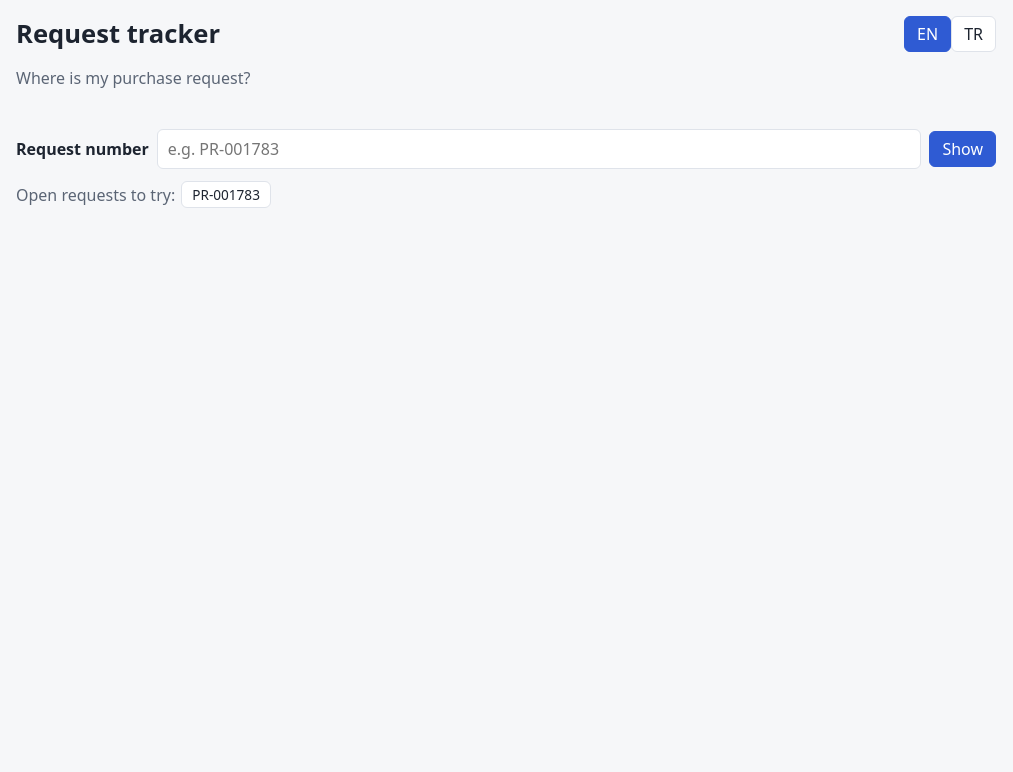
Test: RequestTracker › accepts a bare number
In the field labelled "Request number": (539, 149) [157,129,921,169], type "1783"
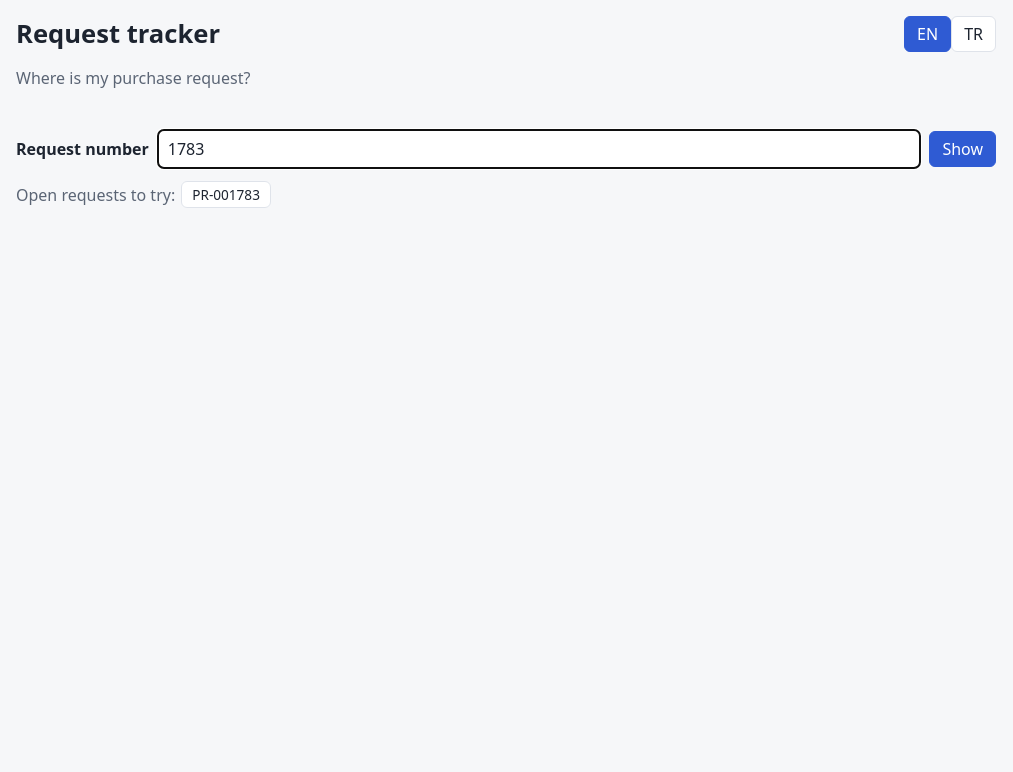
Click the button "Show": (963, 149) [929,131,996,167]
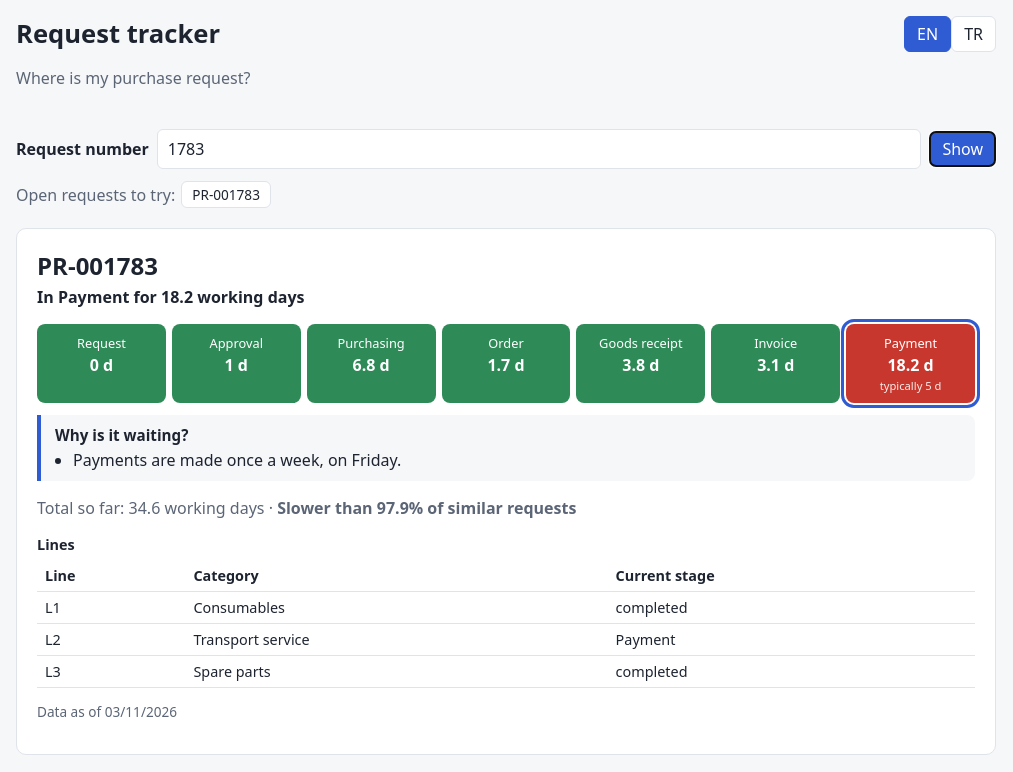
Expected: the heading "PR-001783" is shown, [37,249,158,282]
